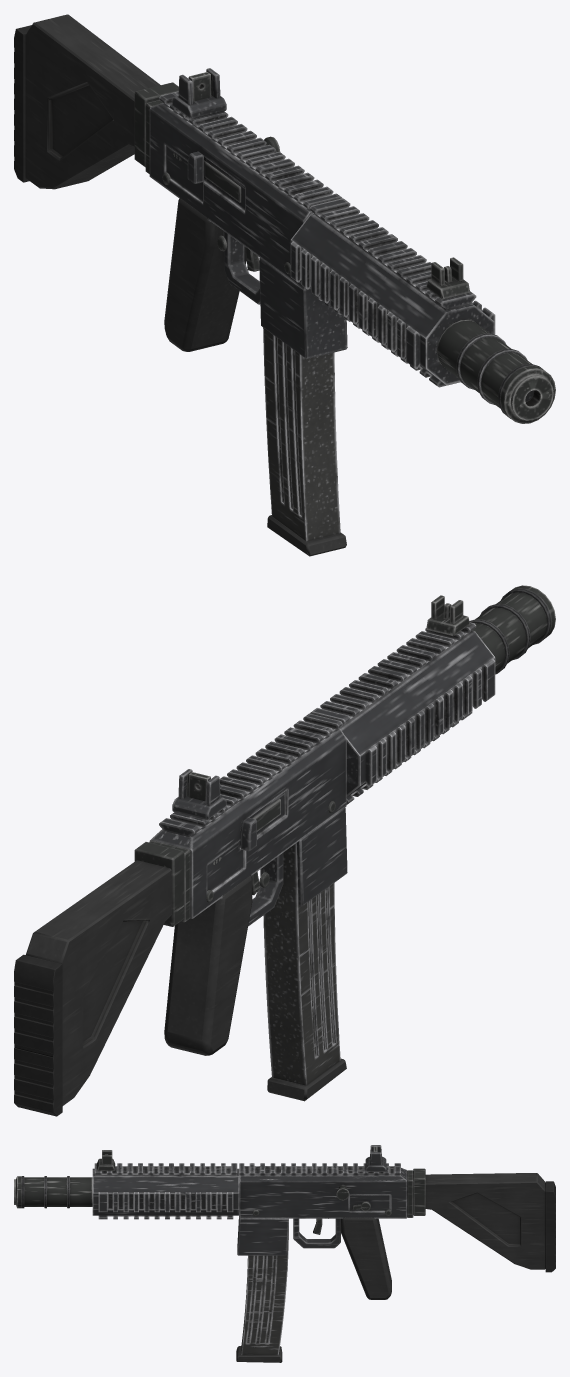
The model's file is tactical_smg.glb.
The picture shows the model from 3 angles, top to bottom: view 1: azimuth 30°, elevation 25°; view 2: azimuth 150°, elevation 25°; view 3: azimuth 270°, elevation 25°; orthographic projection. The views are drawn at different scales.
Visible parts, largest first — view 1: body, magazine, rear_sight; view 2: body, magazine, rear_sight; view 3: body, magazine, rear_sight.
Boxes of the visible parts, <box> form: body: <box>14,14,555,423</box>; magazine: <box>263,327,346,556</box>; rear_sight: <box>172,68,226,119</box>; body: <box>14,585,555,1116</box>; magazine: <box>263,843,346,1101</box>; rear_sight: <box>172,769,226,819</box>; body: <box>14,1150,555,1299</box>; magazine: <box>236,1224,288,1362</box>; rear_sight: <box>365,1145,386,1171</box>.
Size of the model in its own units: 0.0515 by 0.223 by 0.524.
Materials: 1 (1 with a texture image).
